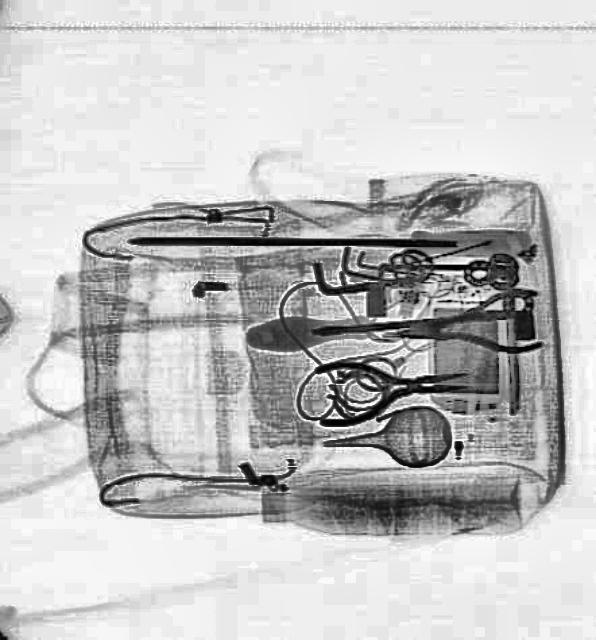Pliers: (387, 284, 543, 366), (311, 349, 467, 426)
